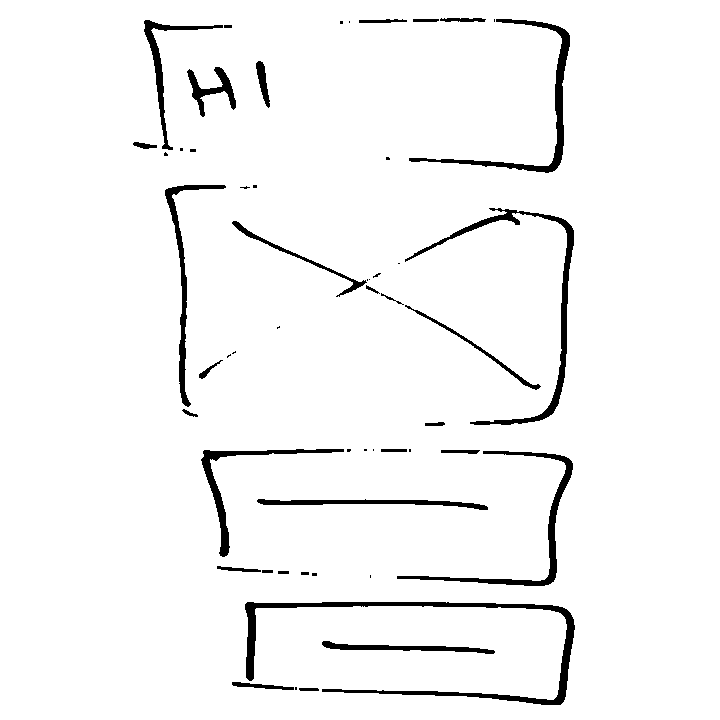button: (190, 443, 579, 590), (239, 598, 581, 711)
heading1: (129, 13, 576, 179)
picture: (157, 179, 575, 429)
